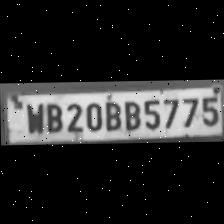0: (82, 100, 102, 132)
2: (62, 99, 82, 134)
5: (140, 96, 162, 130), (198, 94, 220, 128)
7: (177, 94, 197, 128), (160, 96, 178, 130)
B: (42, 100, 62, 134), (101, 98, 121, 132), (120, 98, 140, 132)
W: (20, 100, 42, 135)
